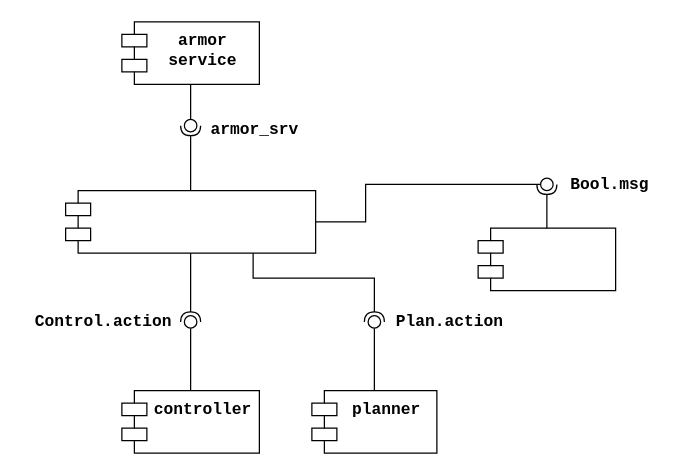
The diagram is 686 pixels wide and 475 high, and some of its shapes have lost their labels. The shapes that lost their labels are listed below. From the top down, each one's centre as x and y in pixels, then its label:
At pixel 190 221: "Finite State Machine".
At pixel 546 259: "battery".
